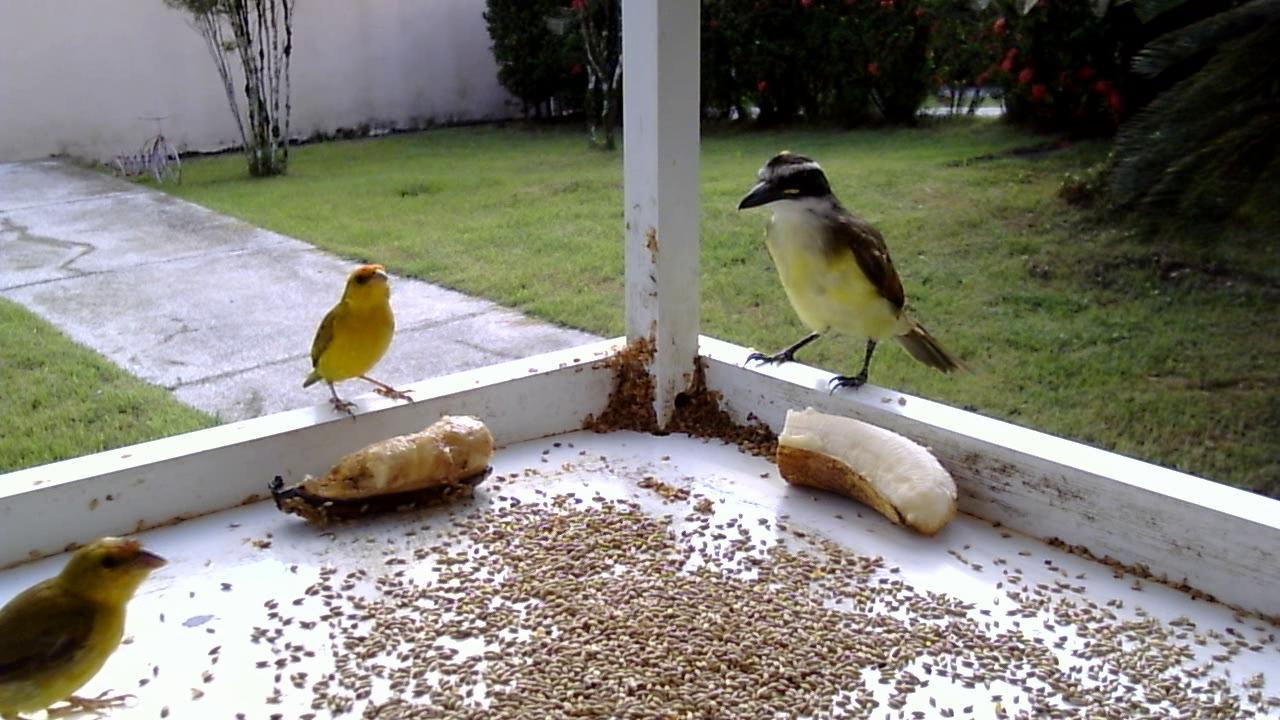bem_te_vi: (734, 149, 966, 397)
canario_do_amazonas: (1, 535, 174, 720), (290, 258, 419, 425)
